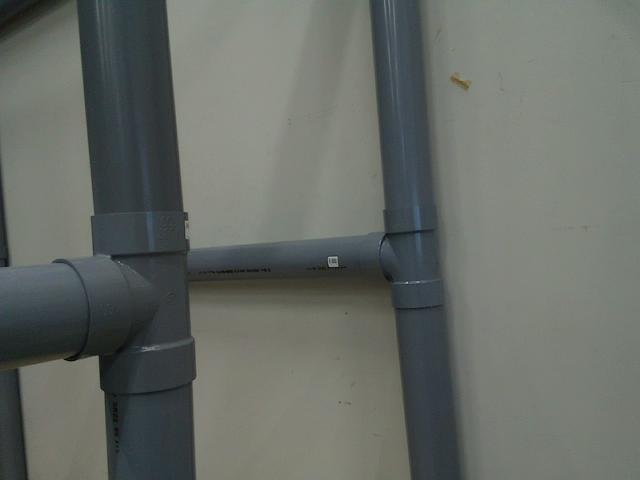junction: (49, 210, 200, 394), (362, 205, 445, 311)
